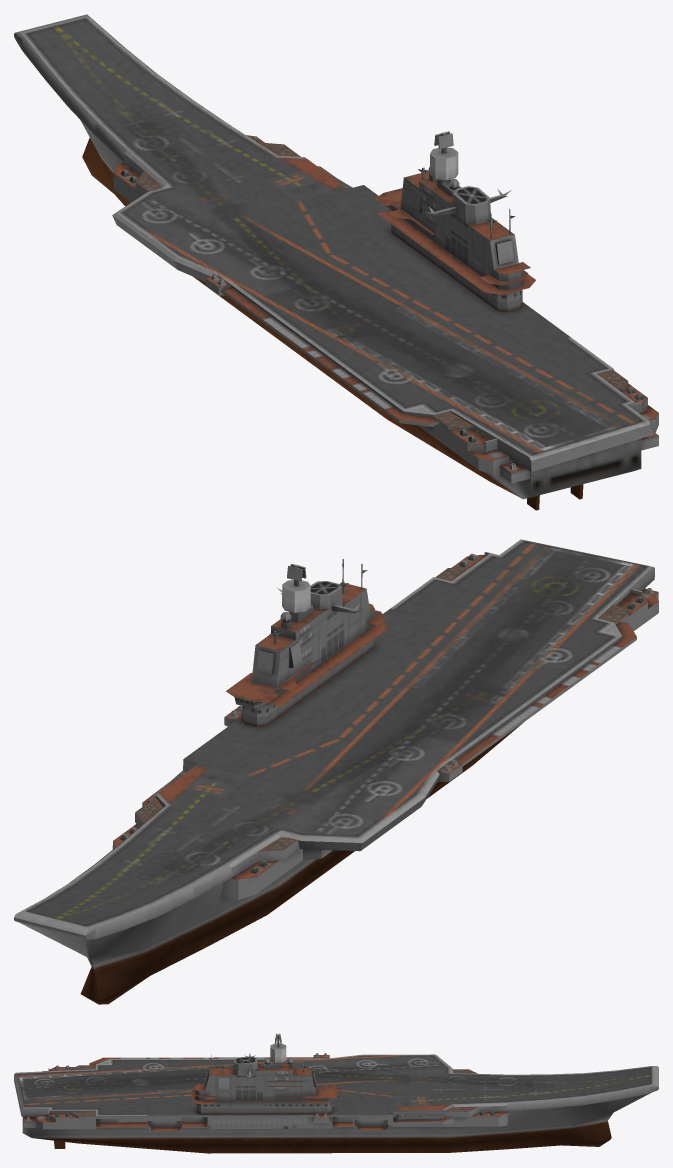
Rendered from carrier.glb.
3 views of the same model, one above another, from view 1: azimuth 30°, elevation 25°; view 2: azimuth 150°, elevation 25°; view 3: azimuth 270°, elevation 25° (orthographic). The views are drawn at different scales.
Parts seen in each view (by area): view 1: carrier_obj_cleaner_materialmerger_gles; view 2: carrier_obj_cleaner_materialmerger_gles; view 3: carrier_obj_cleaner_materialmerger_gles.
Part boxes in pixels (x1,y1,x2,y2): carrier_obj_cleaner_materialmerger_gles: (14, 14, 658, 510); carrier_obj_cleaner_materialmerger_gles: (14, 539, 658, 1004); carrier_obj_cleaner_materialmerger_gles: (14, 1033, 658, 1153).
Size of the model in its own units: 3.62 by 3.16 by 14.
Materials: 4 (4 with a texture image).
